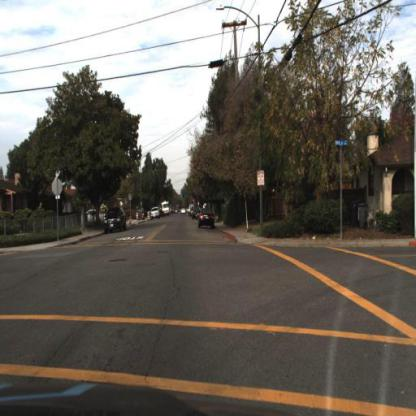car: (103, 204, 129, 235), (102, 205, 127, 233), (198, 208, 217, 233), (198, 205, 216, 230), (149, 206, 163, 224)
